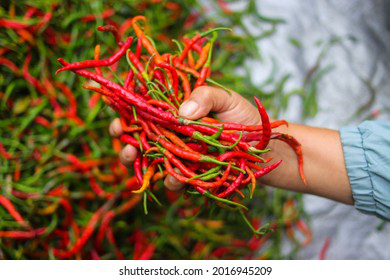Cabai: (58, 26, 299, 209)
